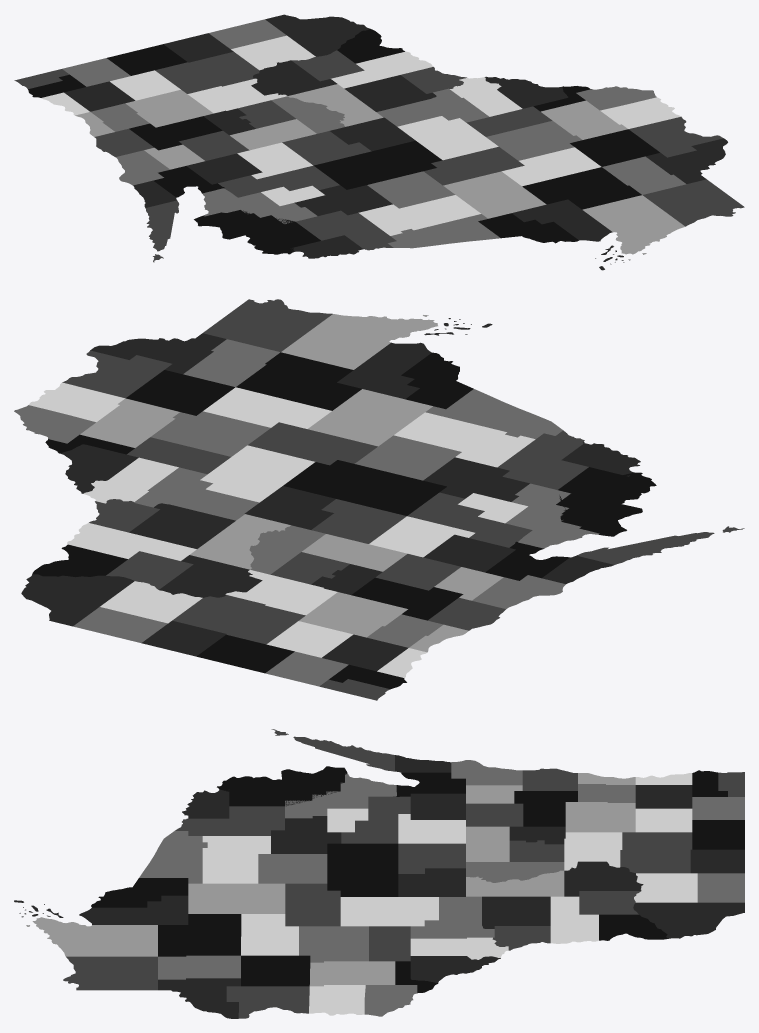
File: Wisconsin_Counties_2D.fbx
3 views of the same model, one above another, from view 1: azimuth 30°, elevation 25°; view 2: azimuth 150°, elevation 25°; view 3: azimuth 270°, elevation 25° (orthographic). The views are drawn at different scales.
Parts seen in each view (by area): view 1: WI_Marathon_County_2D, WI_Bayfield_County_2D, WI_Marinette_County_2D, WI_Sawyer_County_2D, WI_Price_County_2D, WI_Douglas_County_2D, WI_Oneida_County_2D, WI_Dane_County_2D, WI_Clark_County_2D, WI_Grant_County_2D, WI_Chippewa_County_2D, WI_Forest_County_2D (+60 smaller); view 2: WI_Marathon_County_2D, WI_Bayfield_County_2D, WI_Marinette_County_2D, WI_Sawyer_County_2D, WI_Price_County_2D, WI_Douglas_County_2D, WI_Oneida_County_2D, WI_Dane_County_2D, WI_Clark_County_2D, WI_Grant_County_2D, WI_Chippewa_County_2D, WI_Forest_County_2D (+60 smaller); view 3: WI_Marathon_County_2D, WI_Bayfield_County_2D, WI_Marinette_County_2D, WI_Sawyer_County_2D, WI_Price_County_2D, WI_Douglas_County_2D, WI_Oneida_County_2D, WI_Dane_County_2D, WI_Clark_County_2D, WI_Grant_County_2D, WI_Chippewa_County_2D, WI_Forest_County_2D (+60 smaller).
Part boxes in pixels (left/top/right/bottom): WI_Marathon_County_2D: left=314, top=140, right=442, bottom=189; WI_Bayfield_County_2D: left=582, top=195, right=685, bottom=254; WI_Marinette_County_2D: left=194, top=210, right=320, bottom=254; WI_Sawyer_County_2D: left=522, top=167, right=641, bottom=209; WI_Price_County_2D: left=443, top=171, right=546, bottom=218; WI_Douglas_County_2D: left=642, top=179, right=744, bottom=226; WI_Oneida_County_2D: left=358, top=195, right=480, bottom=235; WI_Dane_County_2D: left=155, top=51, right=259, bottom=93; WI_Clark_County_2D: left=397, top=116, right=498, bottom=160; WI_Grant_County_2D: left=265, top=14, right=369, bottom=56; WI_Chippewa_County_2D: left=486, top=120, right=582, bottom=160; WI_Forest_County_2D: left=296, top=210, right=396, bottom=250; WI_Marathon_County_2D: left=283, top=460, right=446, bottom=515; WI_Bayfield_County_2D: left=281, top=314, right=437, bottom=369; WI_Marinette_County_2D: left=556, top=467, right=656, bottom=536; WI_Sawyer_County_2D: left=236, top=352, right=361, bottom=410; WI_Price_County_2D: left=307, top=389, right=432, bottom=446; WI_Douglas_County_2D: left=203, top=299, right=332, bottom=352; WI_Oneida_County_2D: left=394, top=412, right=535, bottom=467; WI_Dane_County_2D: left=172, top=595, right=305, bottom=644; WI_Clark_County_2D: left=200, top=445, right=314, bottom=502; WI_Grant_County_2D: left=21, top=574, right=134, bottom=626; WI_Chippewa_County_2D: left=150, top=411, right=270, bottom=456; WI_Forest_County_2D: left=497, top=430, right=588, bottom=489; WI_Marathon_County_2D: left=327, top=843, right=398, bottom=896; WI_Bayfield_County_2D: left=26, top=917, right=157, bottom=956; WI_Marinette_County_2D: left=217, top=766, right=347, bottom=806; WI_Sawyer_County_2D: left=158, top=914, right=241, bottom=956; WI_Price_County_2D: left=188, top=883, right=285, bottom=913; WI_Douglas_County_2D: left=63, top=956, right=157, bottom=990; WI_Oneida_County_2D: left=202, top=836, right=270, bottom=883; WI_Dane_County_2D: left=620, top=832, right=692, bottom=873; WI_Clark_County_2D: left=340, top=897, right=438, bottom=926; WI_Grant_County_2D: left=633, top=902, right=744, bottom=938; WI_Chippewa_County_2D: left=299, top=926, right=368, bottom=962; WI_Forest_County_2D: left=175, top=806, right=284, bottom=835.
Bounding box in the file's own units: 712 × 0 × 760.
